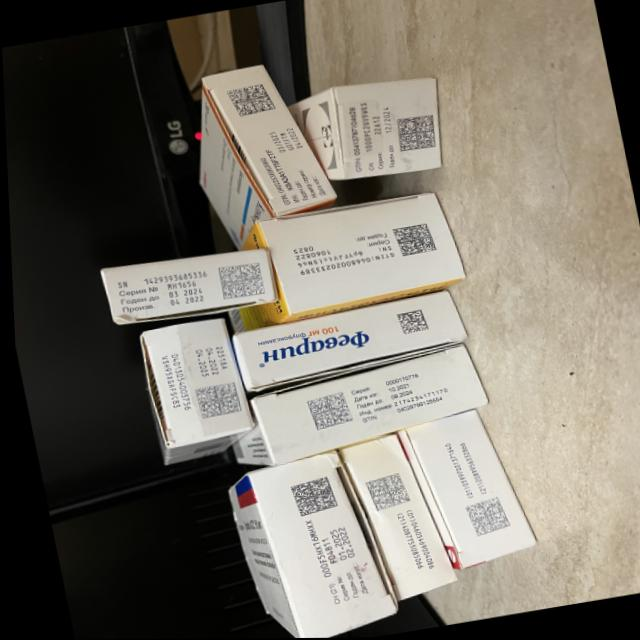datamatrix: (285, 476, 336, 518), (459, 497, 508, 538), (303, 392, 352, 432), (226, 82, 277, 119), (361, 473, 408, 513), (216, 262, 264, 301), (393, 114, 439, 153), (192, 382, 239, 419), (391, 223, 436, 258), (393, 310, 427, 336)
